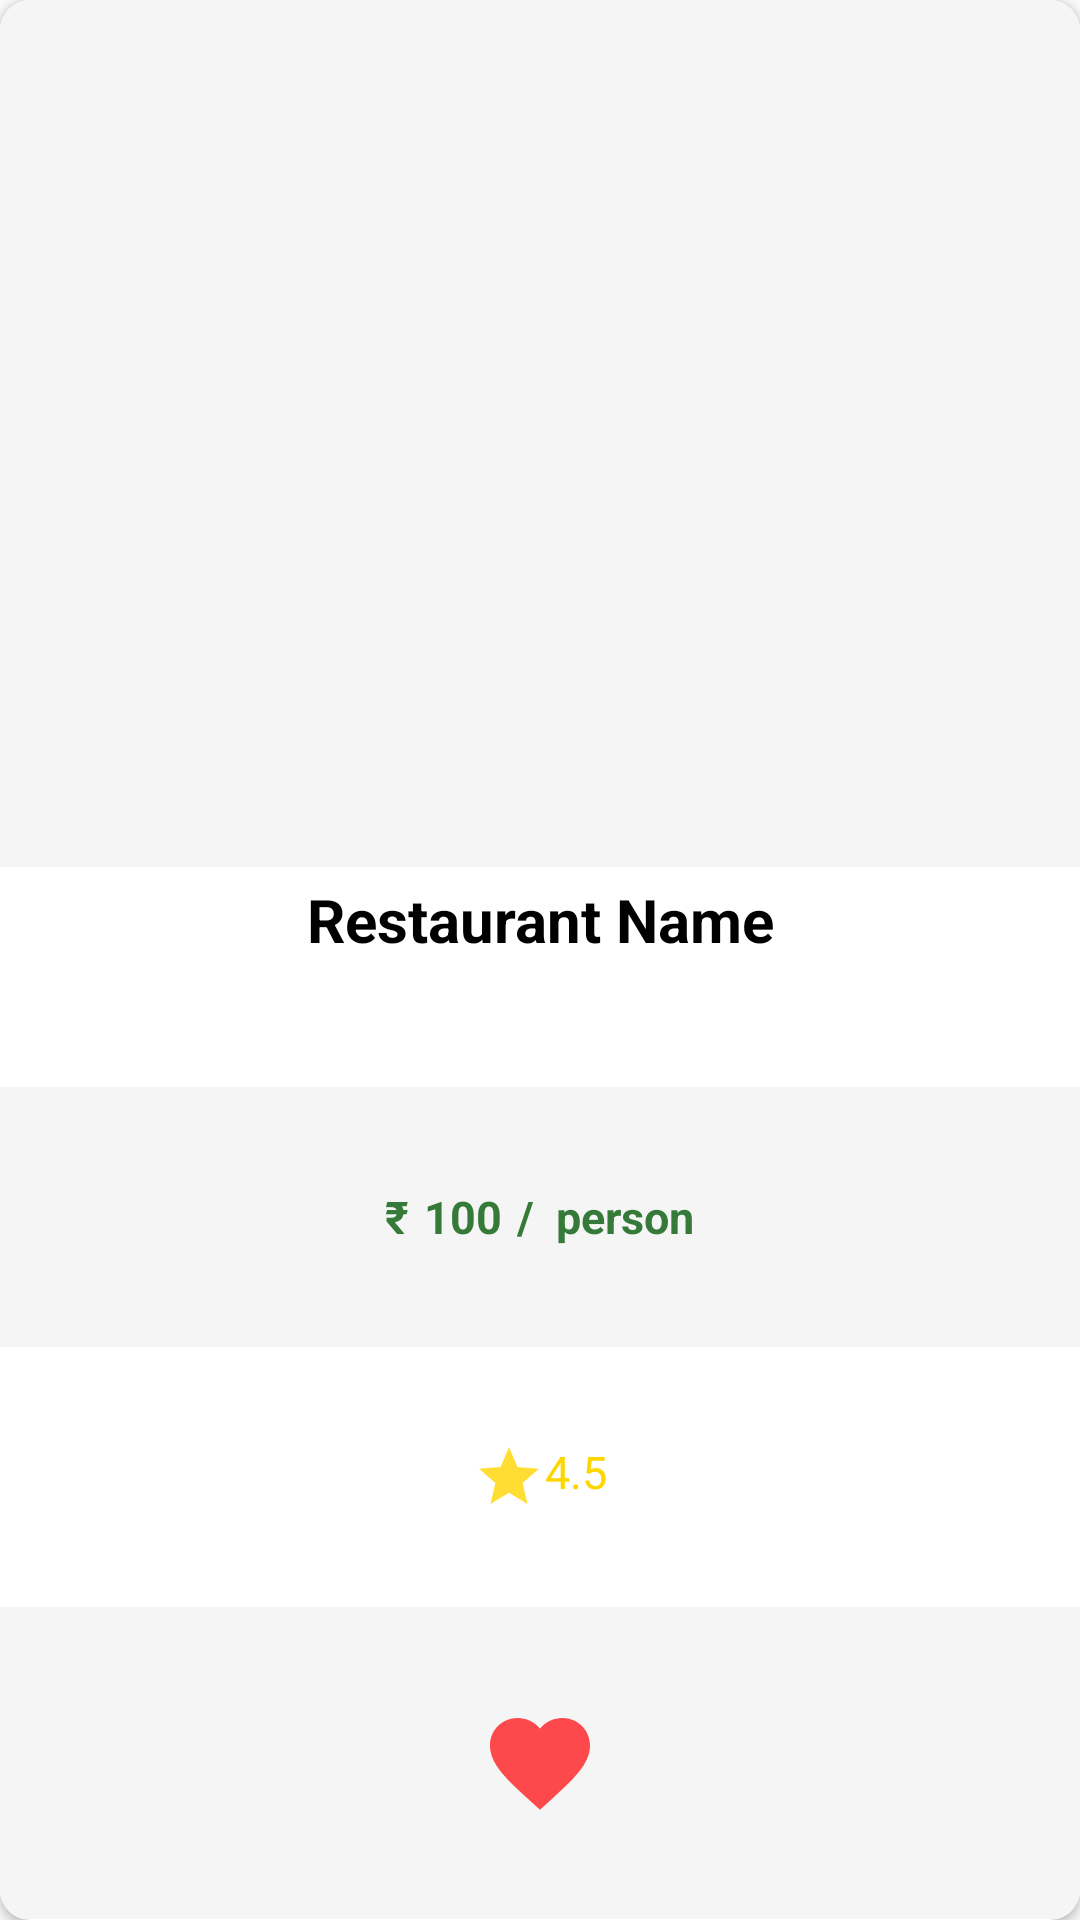

Where to tap for icons on this 1080x1920 app screen, as point (x, y):
favorites: point (540, 1764)
